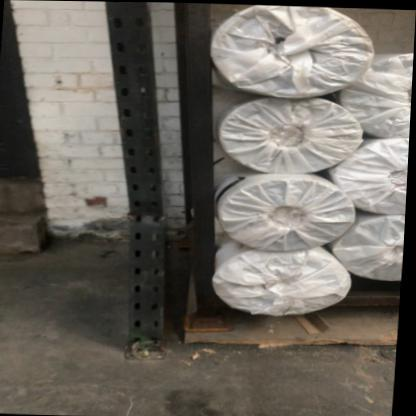vertical_damage: (116, 159, 183, 255)
